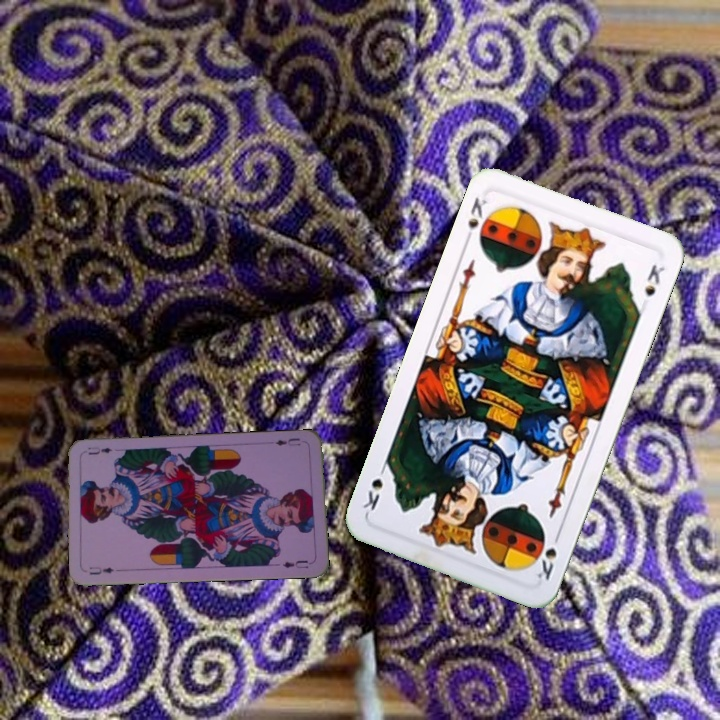EU: (85, 563, 117, 577), (272, 434, 303, 448)
SK: (533, 527, 564, 583), (460, 193, 490, 247)
